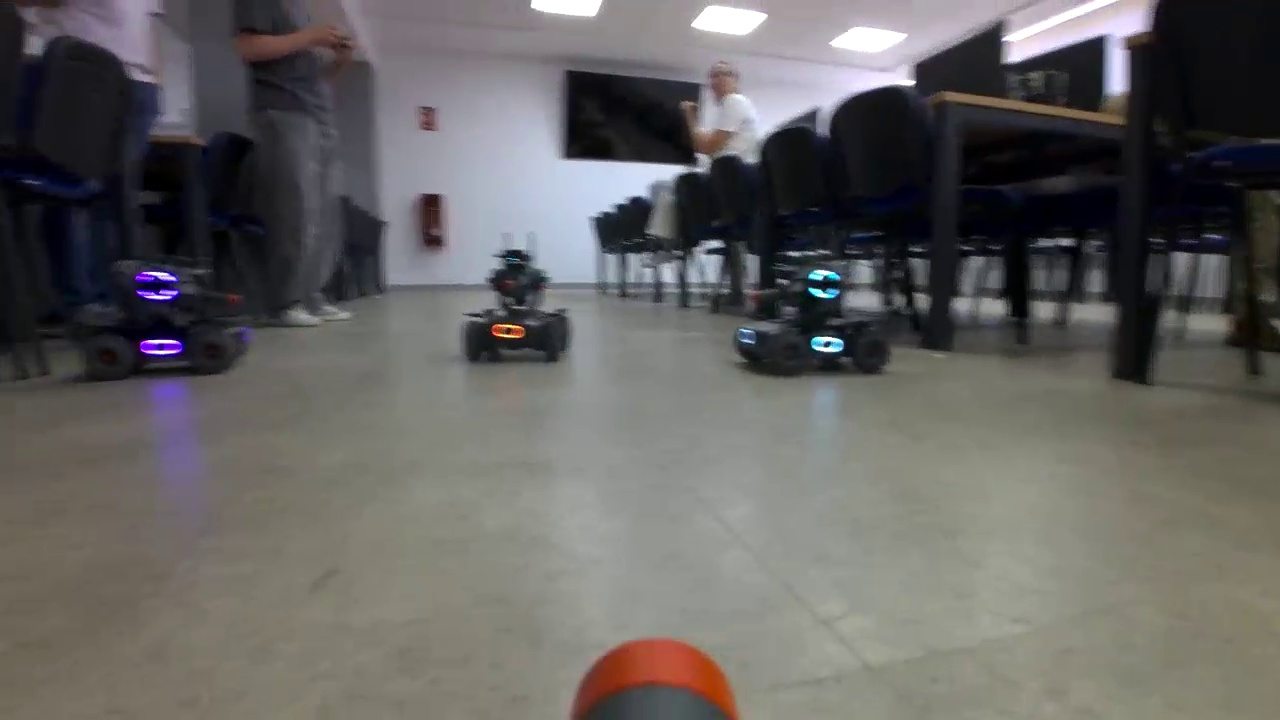robot: (45, 265, 250, 378), (735, 255, 890, 392), (460, 245, 570, 362)
